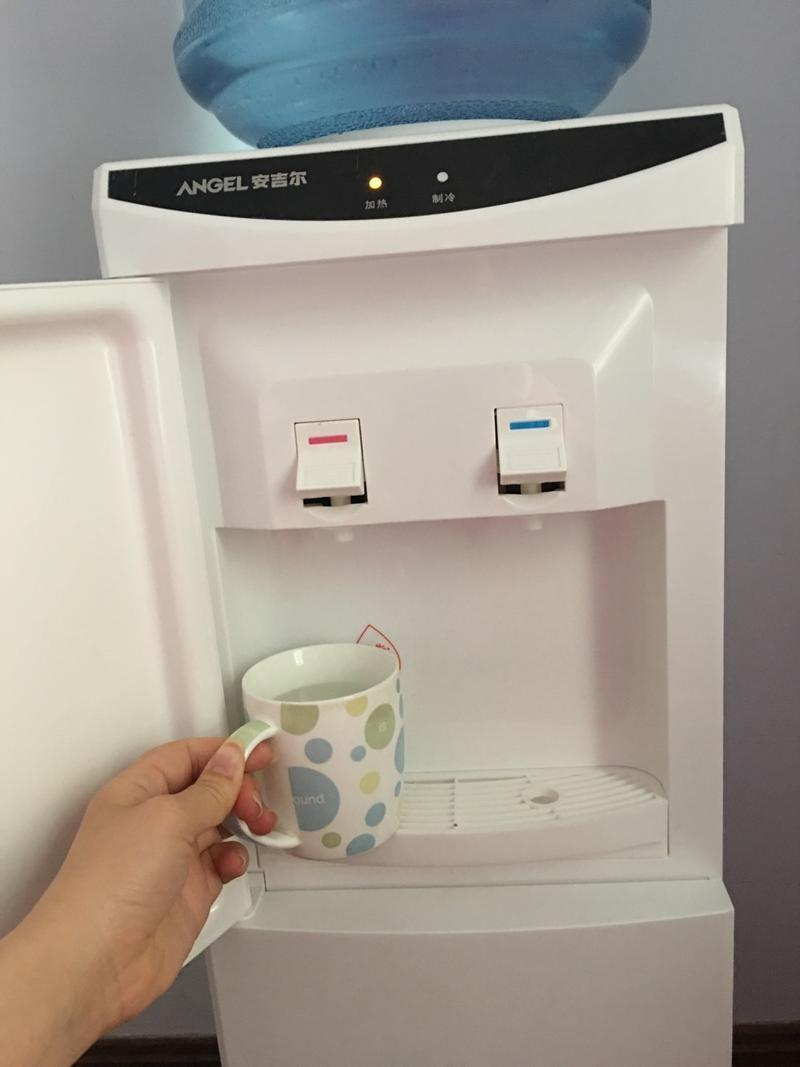Dispenser: (86, 0, 745, 929)
